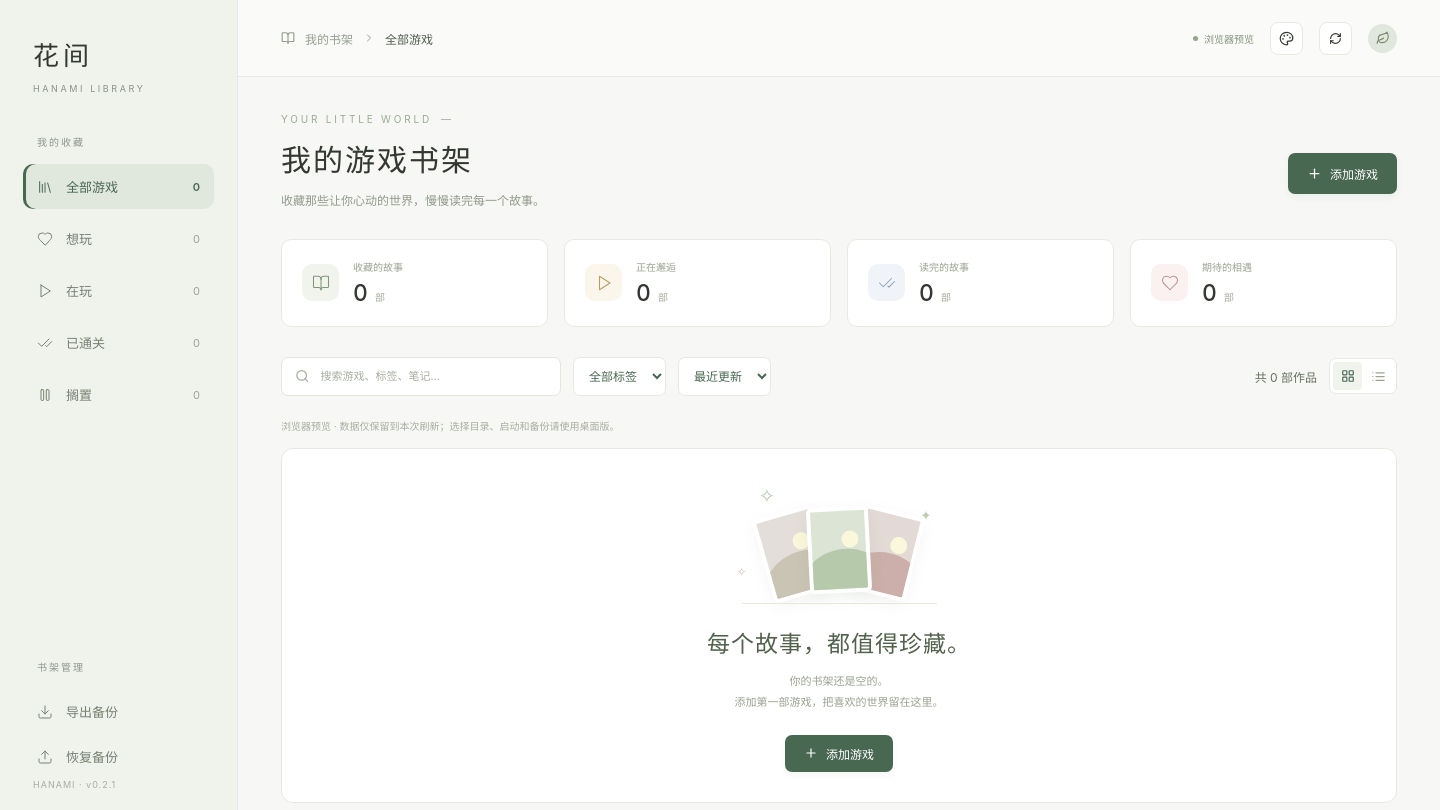
Scenario: 图标提取失败不阻止保存，无图时保留文字占位
This screenshot has width=1440, height=810.
Expected: the heading "每个故事，都值得珍藏。" is shown, [707,625,971,659]
Click the button "添加游戏" in the row of "我的游戏书架": x=1342, y=174 [1288,153,1397,194]
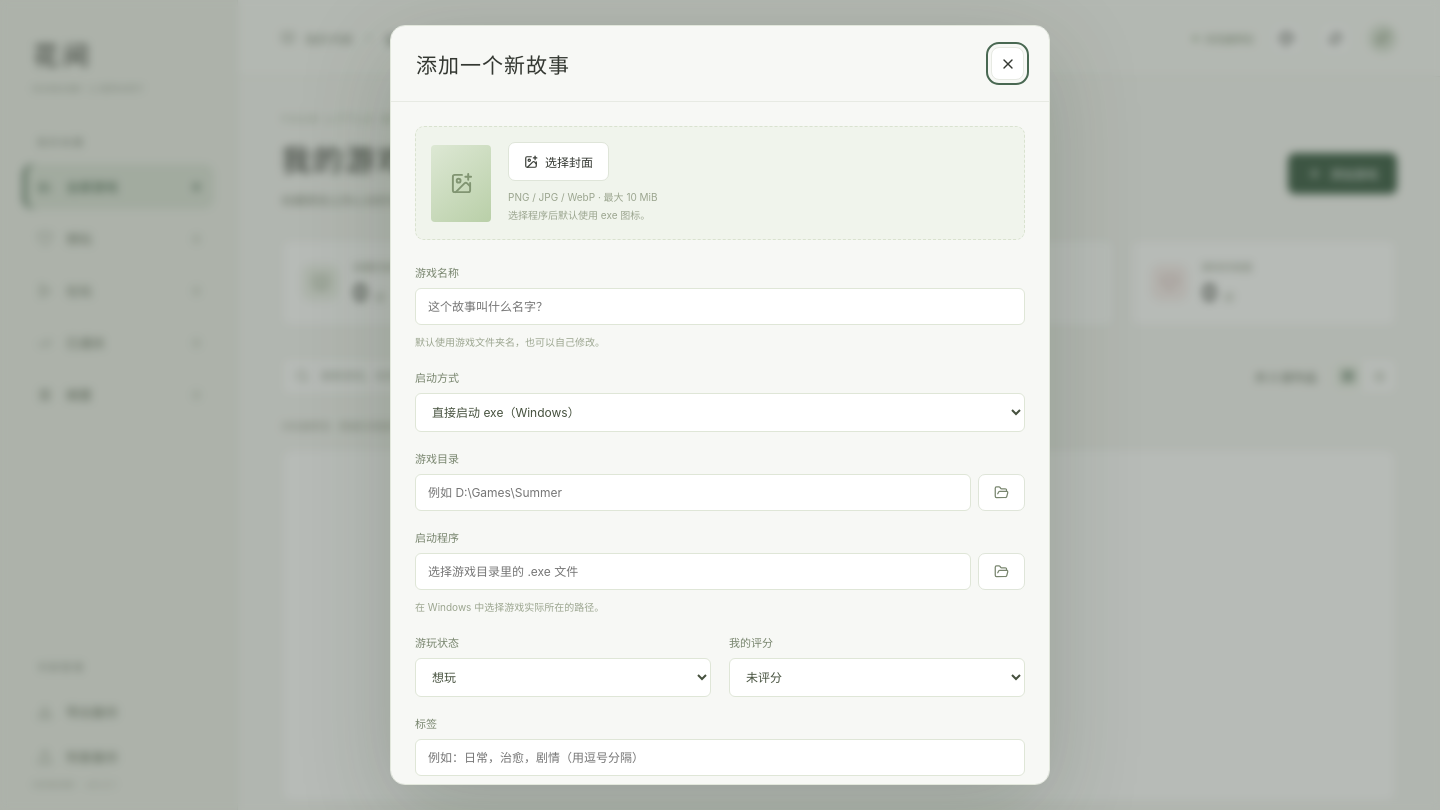
In the field labelled "游戏目录": x=693, y=492 [415,474,971,511], type "D:\\Games\\Summer"
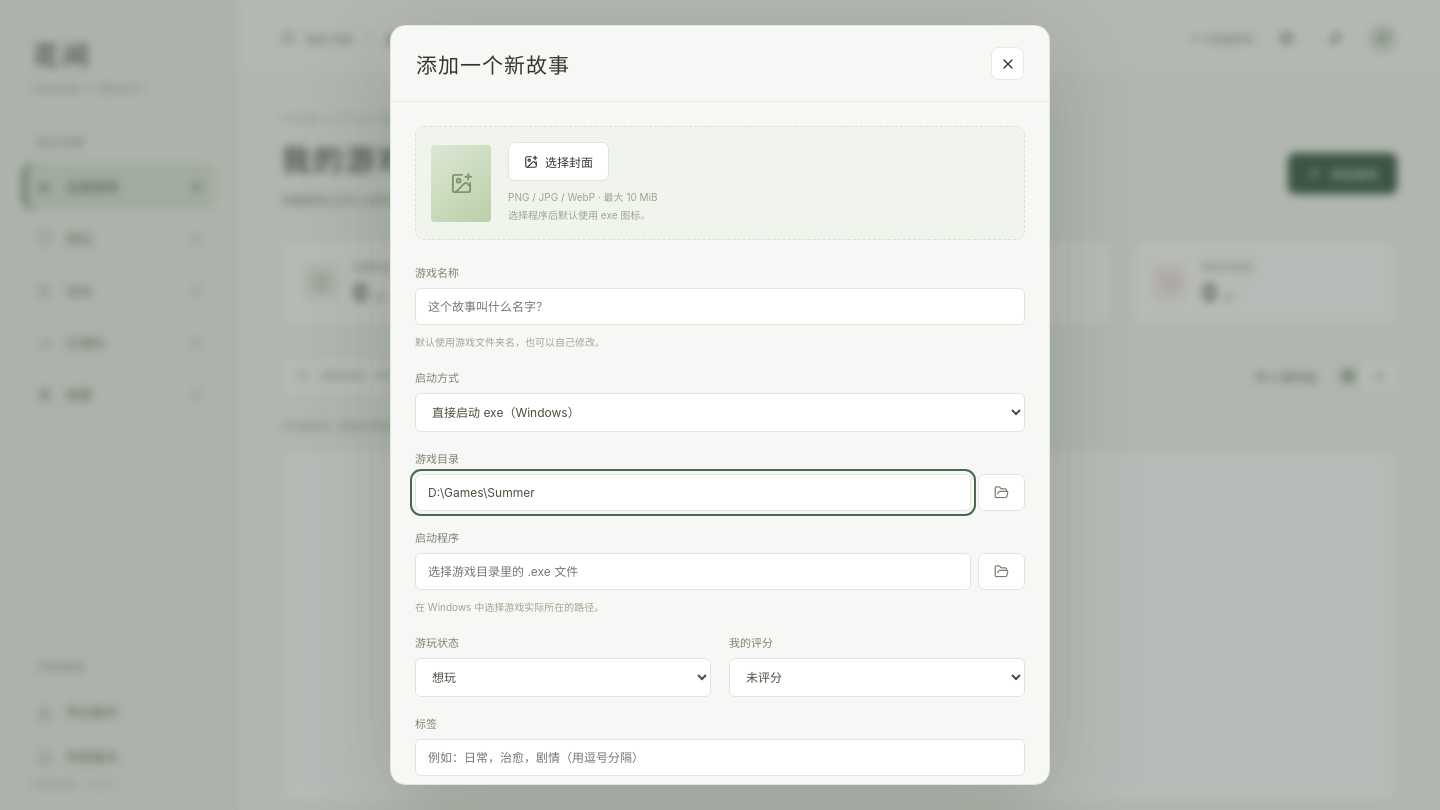
Click the button named "选择启动程序": x=1002, y=572 [978,553,1025,590]
(page scrolled)
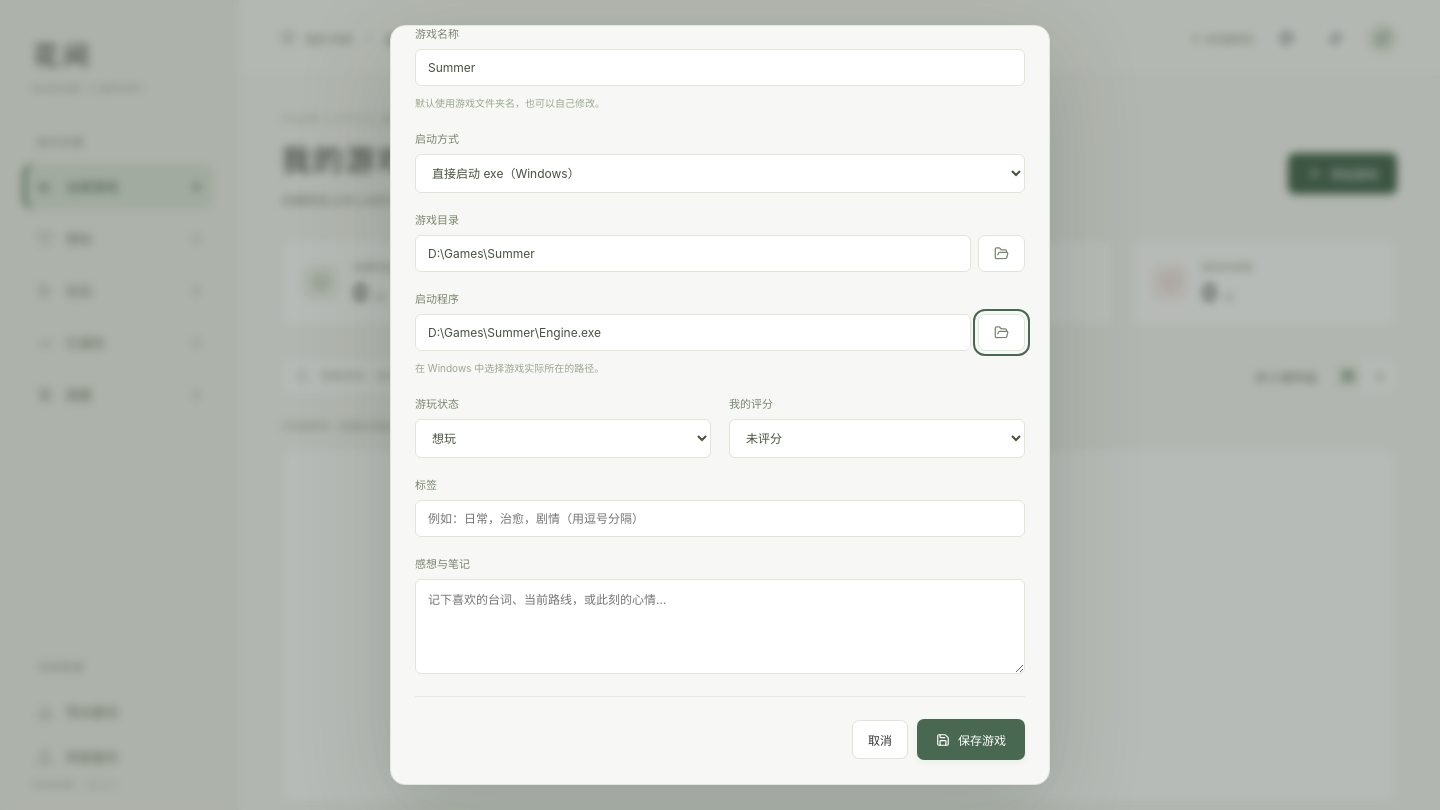
Click the button "保存游戏": x=971, y=740 [917,719,1025,760]
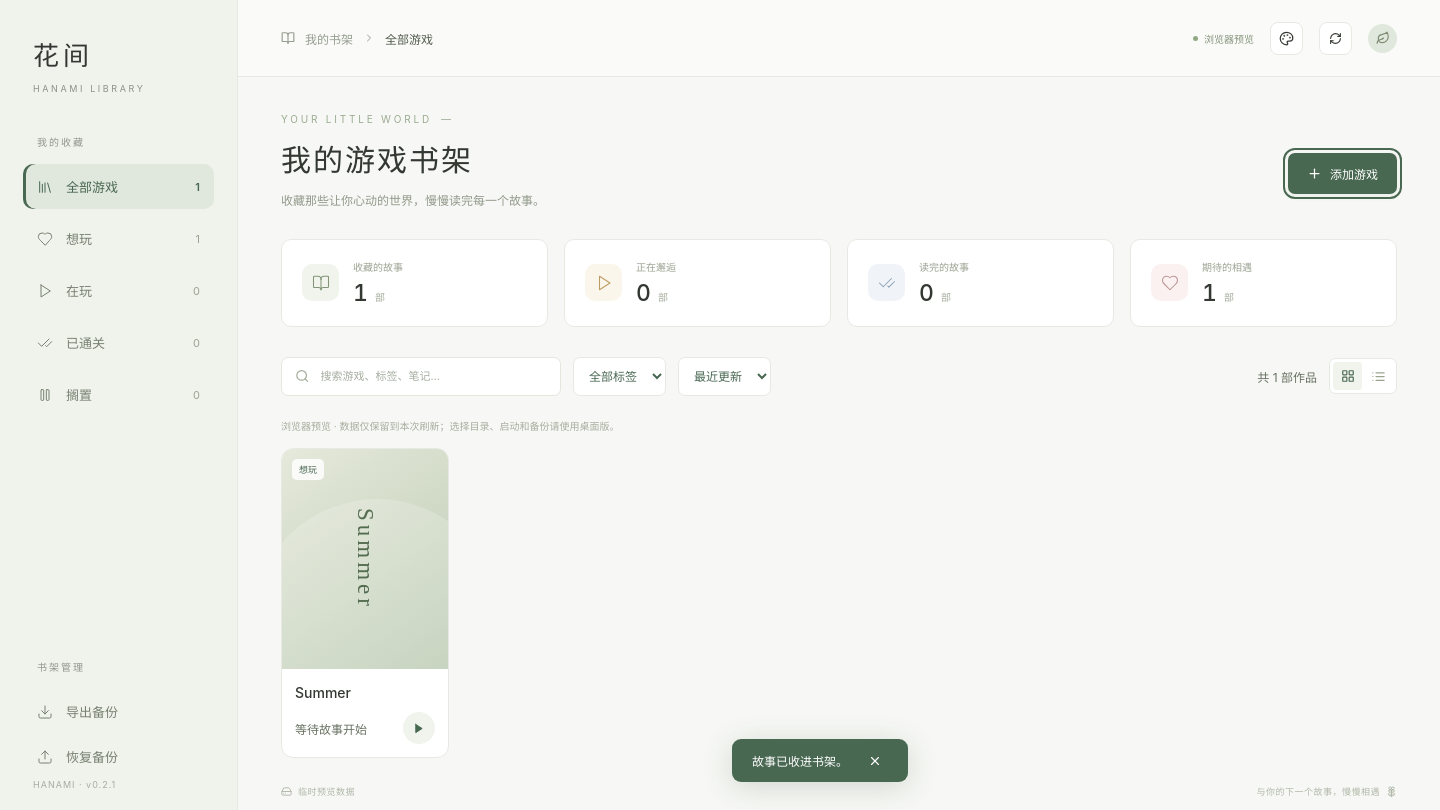
Expected: the button with aria-label "查看 Summer" is shown, [282,449,448,670]
